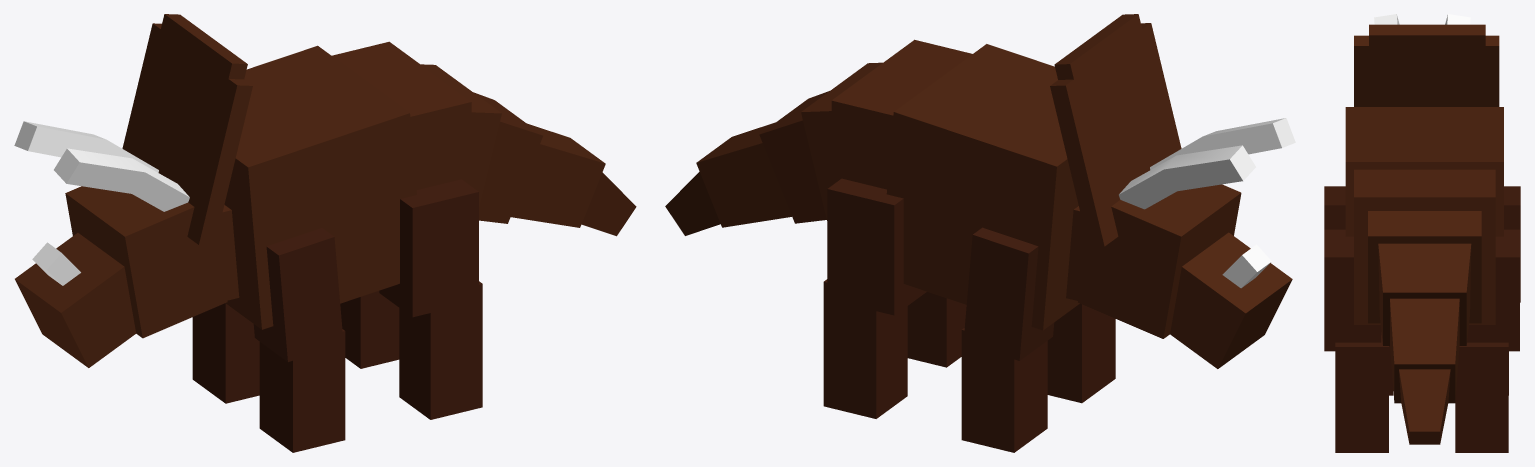
Rendered from Triceraptos.fbx.
The picture shows the model from 3 angles, left to right: view 1: azimuth 30°, elevation 25°; view 2: azimuth 150°, elevation 25°; view 3: azimuth 270°, elevation 25°; orthographic projection. The views are drawn at different scales.
Parts seen in each view (by area): view 1: Cuerno, pata Trasera, Box001, pata delantera001, Box005; view 2: Cuerno, Box005, pata delantera001, Box001, pata Trasera; view 3: Cuerno, pata Trasera, Box005, Box001, pata delantera001.
Part boxes in pixels (box(x1,y1,x2,y2)): Cuerno: box(14, 14, 636, 367); pata Trasera: box(379, 179, 482, 419); Box001: box(253, 228, 345, 452); pata delantera001: box(192, 303, 259, 403); Box005: box(340, 291, 399, 368); Cuerno: box(665, 14, 1295, 368); Box005: box(823, 178, 926, 418); pata delantera001: box(961, 227, 1054, 452); Box001: box(1047, 303, 1115, 403); pata Trasera: box(907, 292, 966, 367); Cuerno: box(1345, 14, 1503, 444); pata Trasera: box(1324, 229, 1388, 452); Box005: box(1455, 229, 1519, 452); Box001: box(1324, 186, 1393, 395); pata delantera001: box(1504, 186, 1520, 395).
Bounding box in the file's own units: 56.47 × 35.29 × 18.95.
